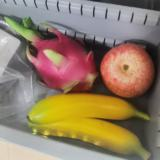apple: (99, 42, 155, 98)
pitaya: (19, 23, 99, 93)
